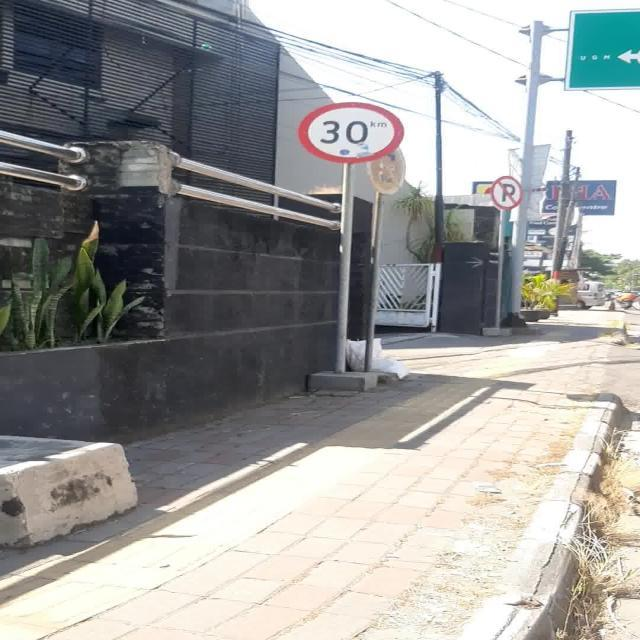Kecepatan Maks. 30 km: (298, 101, 406, 162)
